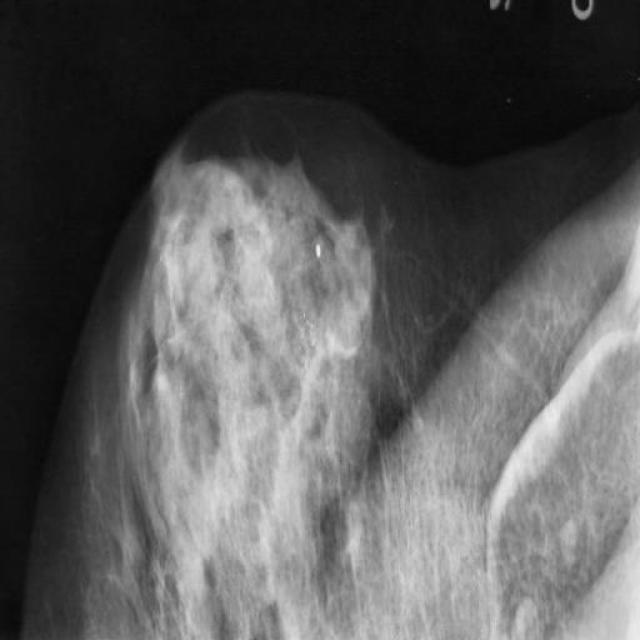cancer: (282, 292, 350, 399)
